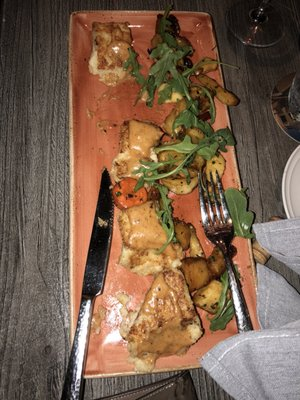sandwich: (59, 168, 117, 398)
